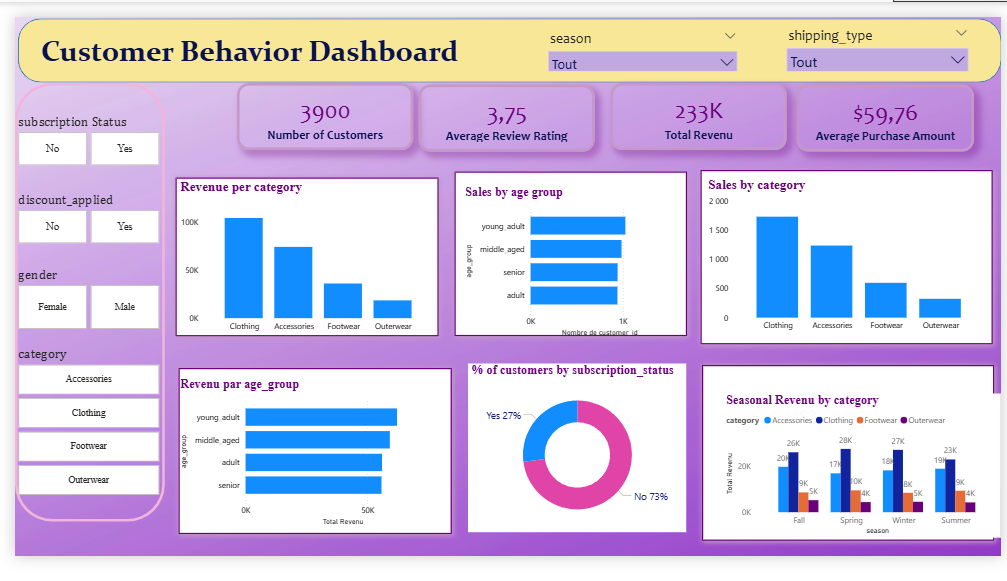

This screenshot's page, from the dashboard's own definition file:
{"tool":"powerbi","page":{"name":"Page 1","canvas":[1500,820],"ordinal":0},"visuals":[{"type":"card","fields":{"Values":["Key_measures.Number of Customers"]},"box":[338,100.7,268,102],"z":0},{"type":"shape","title":"Customer Behavior Dashboard","box":[4,2,1496,97.3],"z":1000},{"type":"card","fields":{"Values":["Key_measures.Average Review Rating"]},"box":[613.3,103.3,268,102],"z":2000},{"type":"card","fields":{"Values":["Key_measures.Average Purchase Amount"]},"box":[1190,102.7,270,102],"z":3000},{"type":"card","fields":{"Values":["Key_measures.Total Revenu"]},"box":[905.3,101.3,268,102],"z":4000},{"type":"shape","box":[239.2,524.9,434.1,270.9],"z":5000},{"type":"clusteredBarChart","title":"Revenu par age_group","fields":{"Category":["customer.age_group"],"Y":["Key_measures.Total Revenu"]},"box":[245.8,547,415.6,230.3],"z":6000},{"type":"shape","box":[1036.4,520.4,462.8,285.7],"z":7000},{"type":"advancedSlicerVisual","fields":{"Values":["customer.subscription_status"]},"box":[0,145.3,224,84],"z":8000},{"type":"advancedSlicerVisual","fields":{"Values":["customer.gender"]},"box":[0,378,224,100],"z":9000},{"type":"advancedSlicerVisual","fields":{"Values":["customer.category"]},"box":[0,500.7,224,232],"z":10000},{"type":"advancedSlicerVisual","fields":{"Values":["customer.discount_applied"]},"box":[0,264,224,84],"z":11000},{"type":"shape","box":[0,100,228,667.3],"z":12000},{"type":"slicer","fields":{"Values":["customer.season"]},"box":[801.7,13.3,307.8,68.7],"z":13000},{"type":"slicer","fields":{"Values":["customer.shipping_type"]},"box":[1164.9,8.9,296.8,73.1],"z":14000},{"type":"clusteredColumnChart","title":"Seasonal Revenu by category","fields":{"Category":["customer.season"],"Y":["Key_measures.Total Revenu"],"Series":["customer.category"]},"box":[1077,572.8,423,219.2],"z":15000},{"type":"shape","box":[1034.2,223.7,462.8,283.5],"z":16000},{"type":"clusteredColumnChart","title":"Sales by category","fields":{"Category":["customer.category"],"Y":["CountNonNull(customer.customer_id)"]},"box":[1049.7,243.6,429.6,242.9],"z":17000},{"type":"shape","box":[659.9,225.1,372.1,268.7],"z":18000},{"type":"shape","box":[234.7,234,418.6,259.8],"z":19000},{"type":"clusteredBarChart","title":"Sales by age group","fields":{"Category":["customer.age_group"],"Y":["Count(customer.customer_id)"]},"box":[679.9,254.7,334.4,234.7],"z":20000},{"type":"donutChart","title":"% of customers by subscription_status","fields":{"Category":["customer.subscription_status"],"Y":["CountNonNull(customer.customer_id)"]},"box":[688.7,527.1,332.2,256.9],"z":21000},{"type":"clusteredColumnChart","title":"Revenue per category","fields":{"Y":["Sum(customer.purchase_amount)"],"Category":["customer.category"]},"box":[245.8,247.3,394.2,241.4],"z":22000}]}

Visuals, with their boxes on the page's 1500x820 design canvas (x1, y1, x2, y2). These are canvas units, not pixel positions in the 1007x581 screenshot, which may show the page scaled, cropped or inside an application window:
card - Key_measures.Number of Customers: (x1=338, y1=101, x2=606, y2=203)
"Customer Behavior Dashboard" shape: (x1=4, y1=2, x2=1500, y2=99)
card - Key_measures.Average Review Rating: (x1=613, y1=103, x2=881, y2=205)
card - Key_measures.Average Purchase Amount: (x1=1190, y1=103, x2=1460, y2=205)
card - Key_measures.Total Revenu: (x1=905, y1=101, x2=1173, y2=203)
shape: (x1=239, y1=525, x2=673, y2=796)
"Revenu par age_group" clusteredBarChart: (x1=246, y1=547, x2=661, y2=777)
shape: (x1=1036, y1=520, x2=1499, y2=806)
advancedSlicerVisual - customer.subscription_status: (x1=0, y1=145, x2=224, y2=229)
advancedSlicerVisual - customer.gender: (x1=0, y1=378, x2=224, y2=478)
advancedSlicerVisual - customer.category: (x1=0, y1=501, x2=224, y2=733)
advancedSlicerVisual - customer.discount_applied: (x1=0, y1=264, x2=224, y2=348)
shape: (x1=0, y1=100, x2=228, y2=767)
slicer - customer.season: (x1=802, y1=13, x2=1110, y2=82)
slicer - customer.shipping_type: (x1=1165, y1=9, x2=1462, y2=82)
"Seasonal Revenu by category" clusteredColumnChart: (x1=1077, y1=573, x2=1500, y2=792)
shape: (x1=1034, y1=224, x2=1497, y2=507)
"Sales by category" clusteredColumnChart: (x1=1050, y1=244, x2=1479, y2=486)
shape: (x1=660, y1=225, x2=1032, y2=494)
shape: (x1=235, y1=234, x2=653, y2=494)
"Sales by age group" clusteredBarChart: (x1=680, y1=255, x2=1014, y2=489)
"% of customers by subscription_status" donutChart: (x1=689, y1=527, x2=1021, y2=784)
"Revenue per category" clusteredColumnChart: (x1=246, y1=247, x2=640, y2=489)
